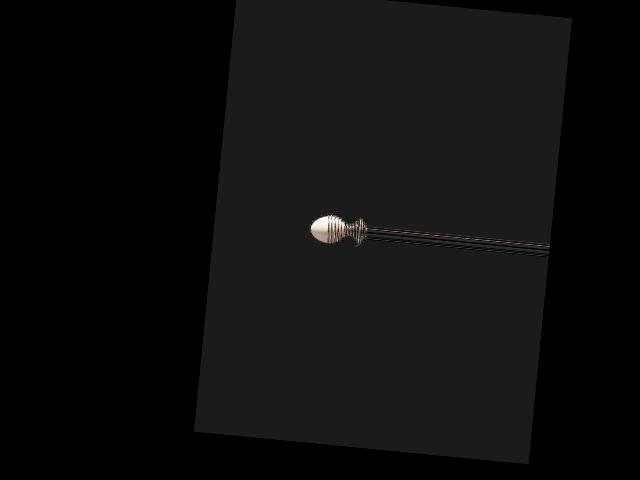egg: (309, 213, 346, 244)
